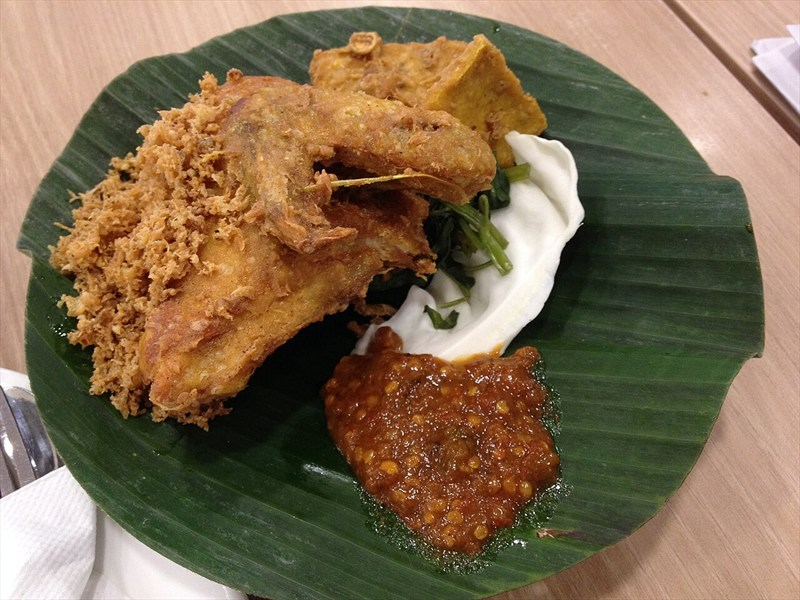Ayam Goreng: (67, 99, 583, 496)
